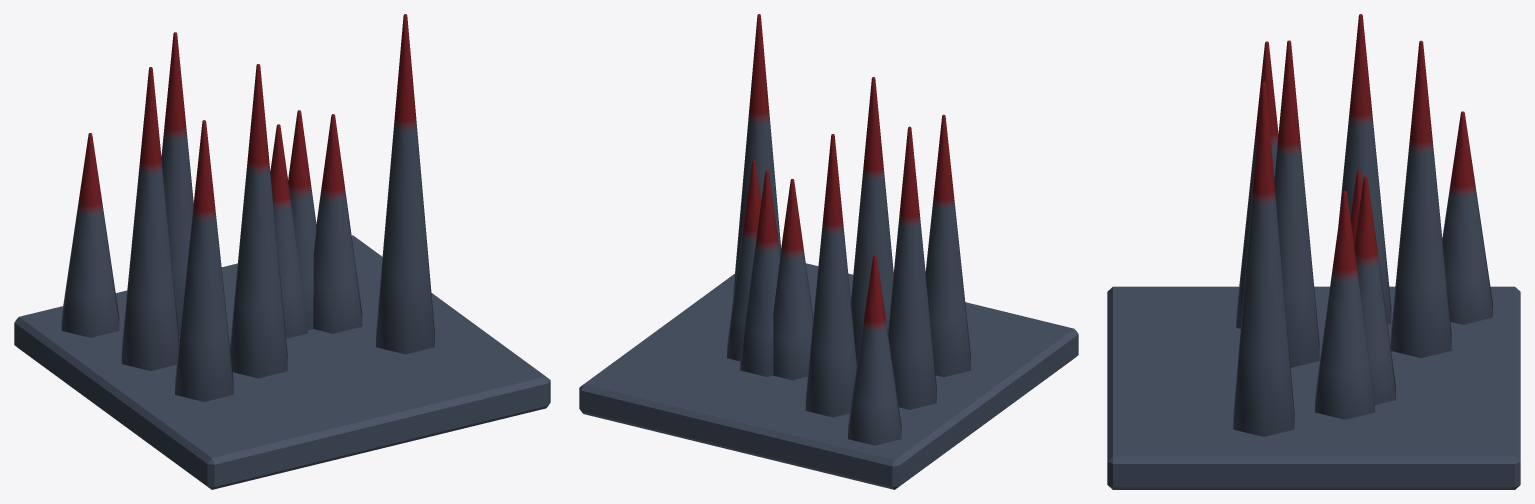
The model's file is prop_spikes4_7952.glb.
The picture shows the model from 3 angles, left to right: view 1: azimuth 30°, elevation 25°; view 2: azimuth 150°, elevation 25°; view 3: azimuth 270°, elevation 25°; orthographic projection. The views are drawn at different scales.
Parts seen in each view (by area): view 1: prop_spikes4_7952; view 2: prop_spikes4_7952; view 3: prop_spikes4_7952.
Part boxes in pixels (x1,y1,x2,y2): prop_spikes4_7952: (14,14,550,489); prop_spikes4_7952: (579,14,1078,489); prop_spikes4_7952: (1107,14,1520,489).
Bounding box in the file's own units: 0.7954 × 0.8191 × 0.7954.
1 material, 1 textured.
